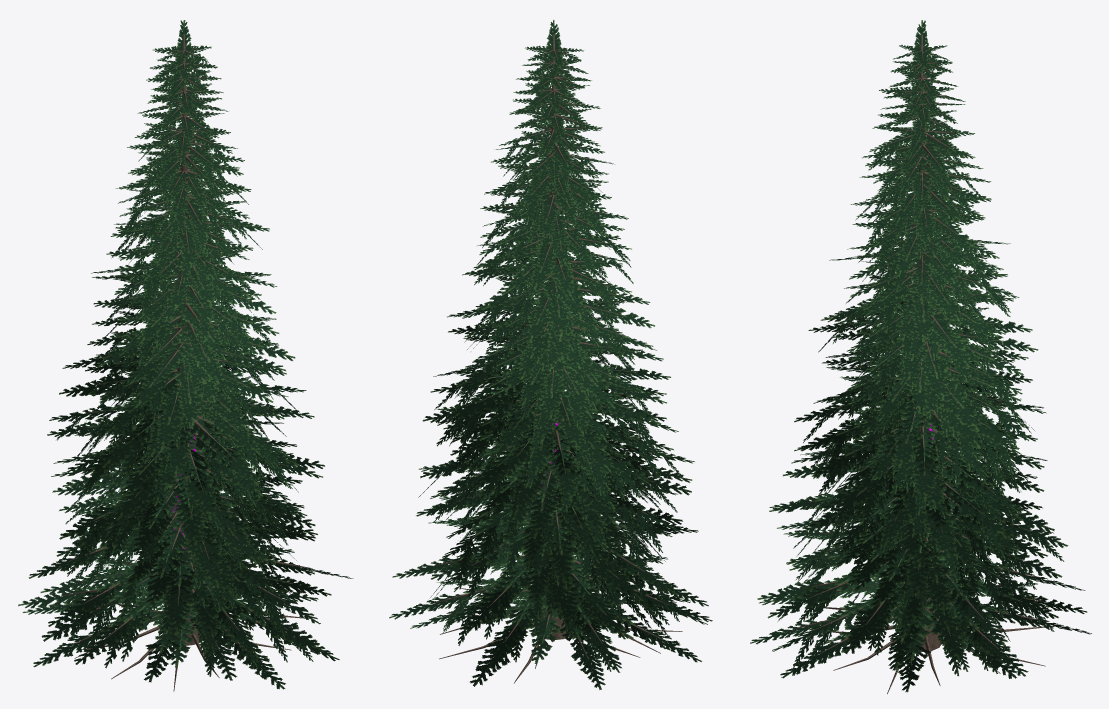
The model's file is EN_Tree_Spruce_B.fbx.
The picture shows the model from 3 angles, left to right: view 1: azimuth 30°, elevation 25°; view 2: azimuth 150°, elevation 25°; view 3: azimuth 270°, elevation 25°; orthographic projection.
Visible parts, largest first — view 1: EN_Tree_Spruce_B_LOD0; view 2: EN_Tree_Spruce_B_LOD0; view 3: EN_Tree_Spruce_B_LOD0.
Part boxes in pixels (x1,y1,x2,y2): EN_Tree_Spruce_B_LOD0: (18,20,353,691); EN_Tree_Spruce_B_LOD0: (389,20,712,689); EN_Tree_Spruce_B_LOD0: (750,20,1091,693).
Size of what is drawn, in the model's own units: 5.7 by 11.55 by 5.84.
